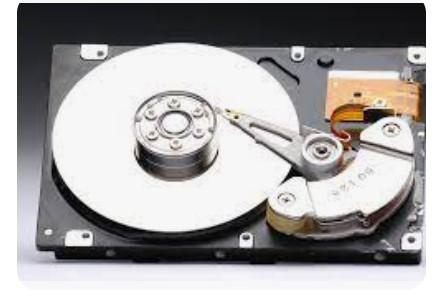internal HDD: (36, 40, 423, 263)
